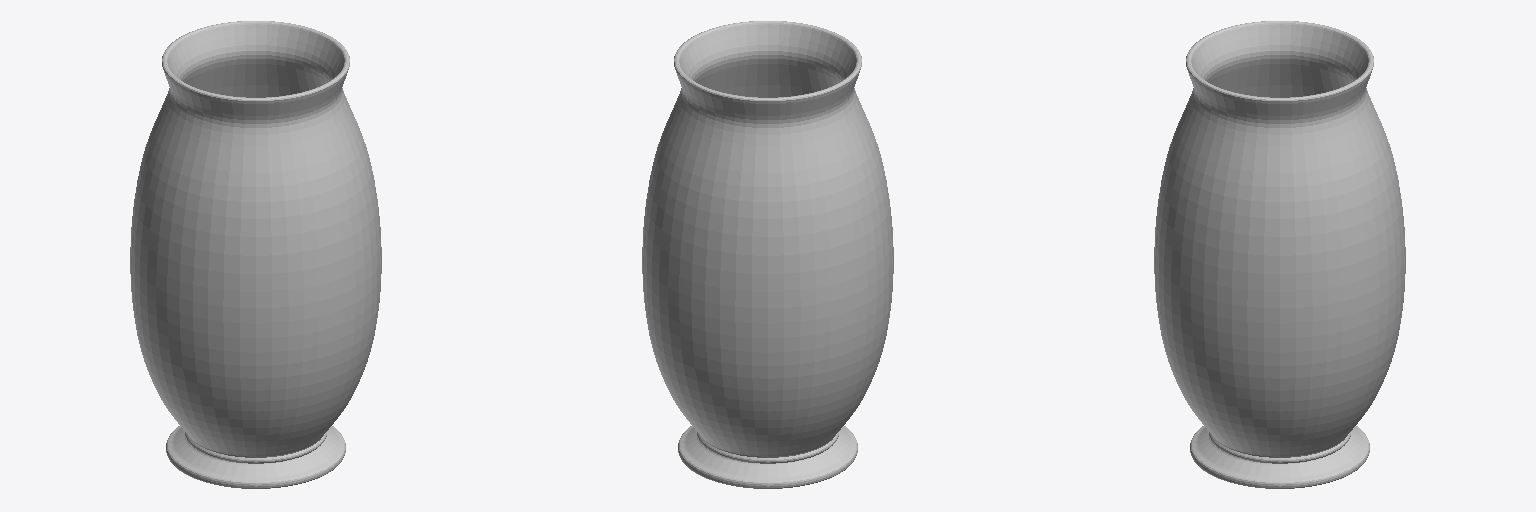
File: antique_ceramic_vase_01_4k.obj
The picture shows the model from 3 angles: view 1: azimuth 30°, elevation 25°; view 2: azimuth 150°, elevation 25°; view 3: azimuth 270°, elevation 25°; orthographic projection.
Parts seen in each view (by area): view 1: antique_ceramic_vase_01; view 2: antique_ceramic_vase_01; view 3: antique_ceramic_vase_01.
Part boxes in pixels (bbox=[...]): antique_ceramic_vase_01: bbox=[130, 21, 381, 488]; antique_ceramic_vase_01: bbox=[642, 21, 893, 488]; antique_ceramic_vase_01: bbox=[1154, 21, 1405, 488].
Bounding box in the file's own units: 0.255 × 0.4396 × 0.255.